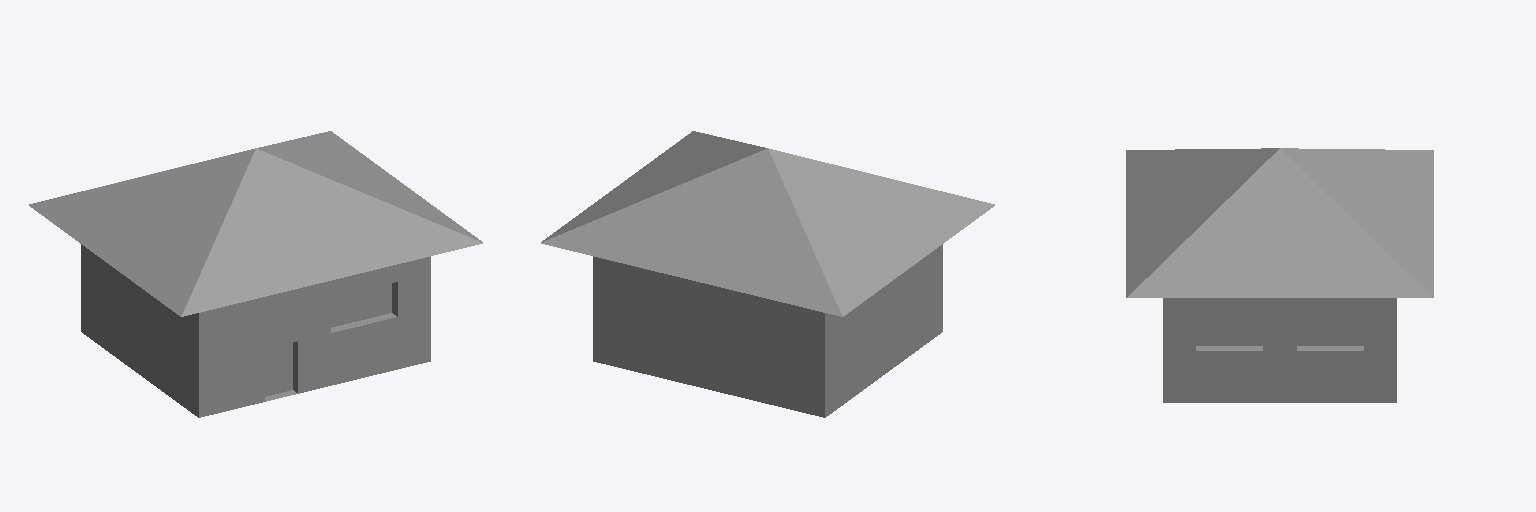
File: house.obj
3 renders of one model, left to right at view 1: azimuth 30°, elevation 25°; view 2: azimuth 150°, elevation 25°; view 3: azimuth 270°, elevation 25°, orthographic.
Parts seen in each view (by area): view 1: Cube; view 2: Cube; view 3: Cube.
Boxes of the visible parts, x1,y1,x2,y2 form: Cube: [29, 131, 482, 417]; Cube: [541, 131, 994, 417]; Cube: [1126, 148, 1433, 402].
Size of the model in its own units: 75.48 by 51.25 by 66.2.